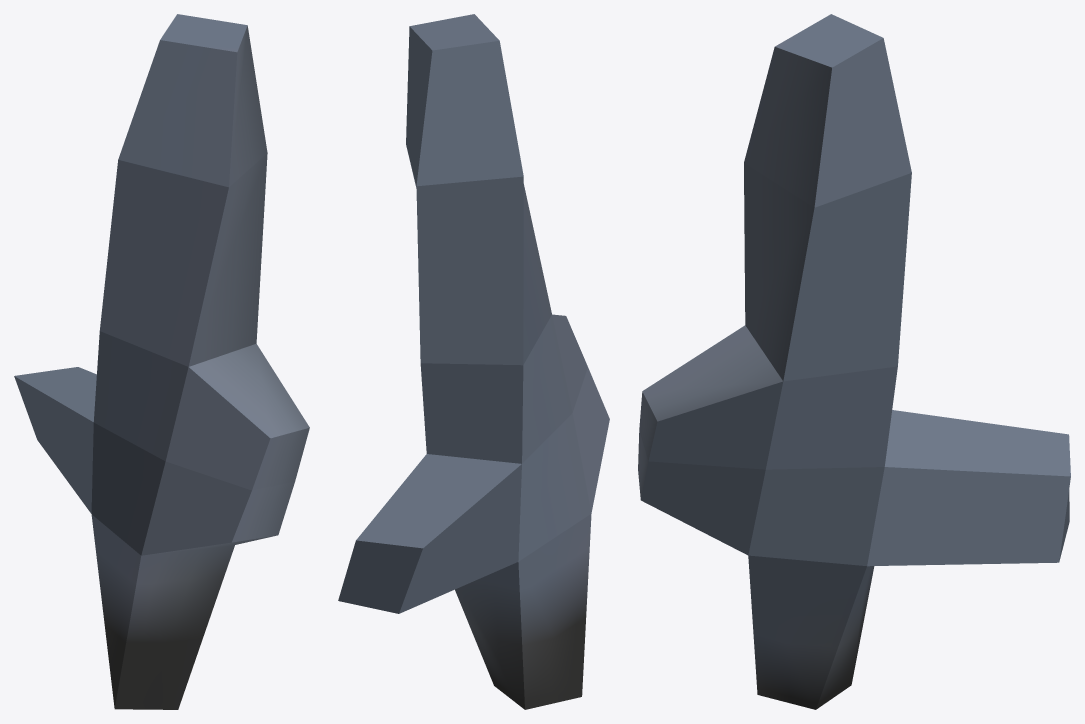
Rendered from Tree.011.fbx.
3 renders of one model, left to right at view 1: azimuth 30°, elevation 25°; view 2: azimuth 150°, elevation 25°; view 3: azimuth 270°, elevation 25°, orthographic. The views are drawn at different scales.
Visible parts, largest first — view 1: Tree.011; view 2: Tree.011; view 3: Tree.011.
Boxes of the visible parts, x1,y1,x2,y2 form: Tree.011: [14, 14, 309, 709]; Tree.011: [338, 14, 609, 709]; Tree.011: [638, 14, 1070, 709].
Size of the model in its own units: 0.3367 by 1.27 by 0.721.
